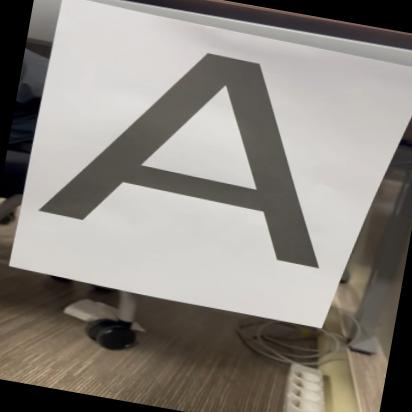seat: (28, 13, 366, 275)
